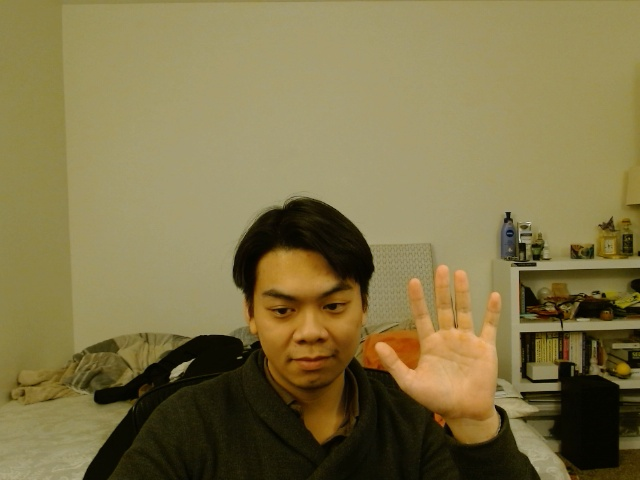Hello: (369, 261, 523, 420)
